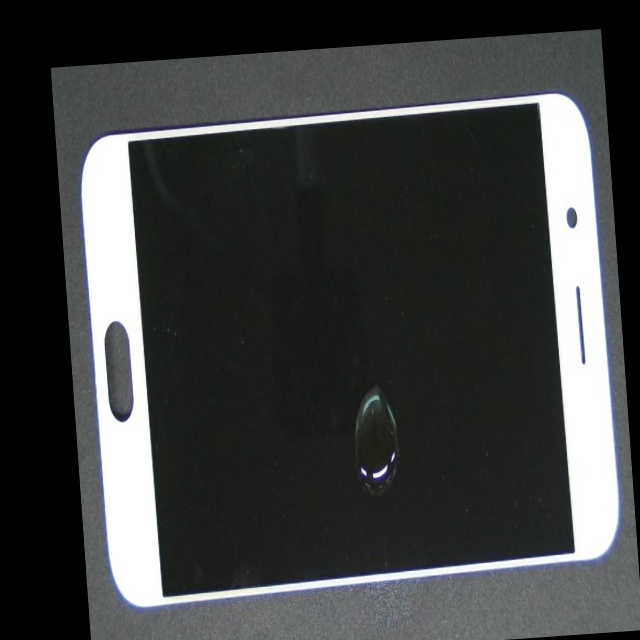oil: (233, 234, 554, 603)
